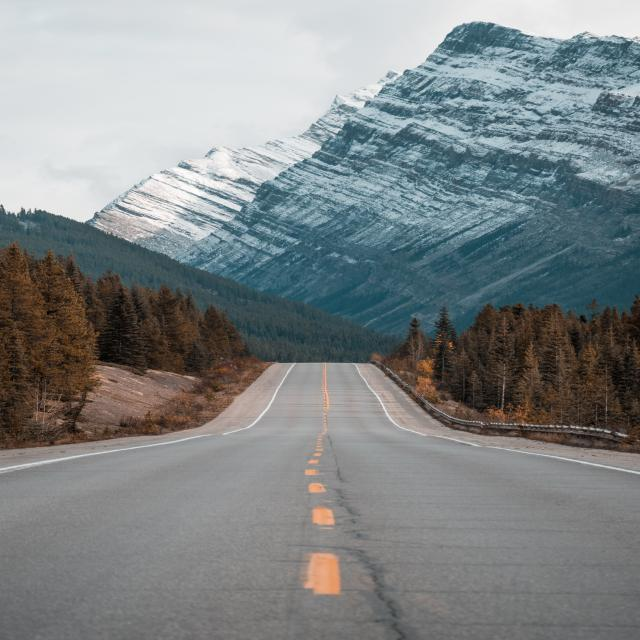Concrete: (0, 362, 640, 640)
